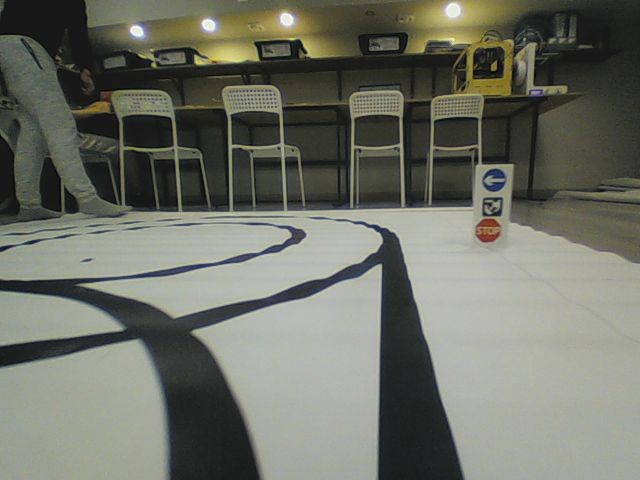Stop: (473, 217, 502, 243)
